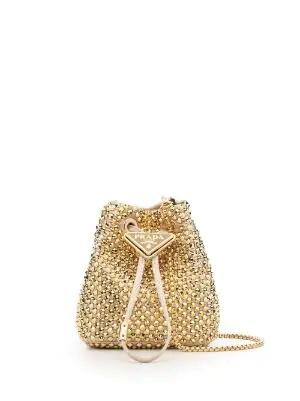PRADA: (125, 232, 173, 255)
